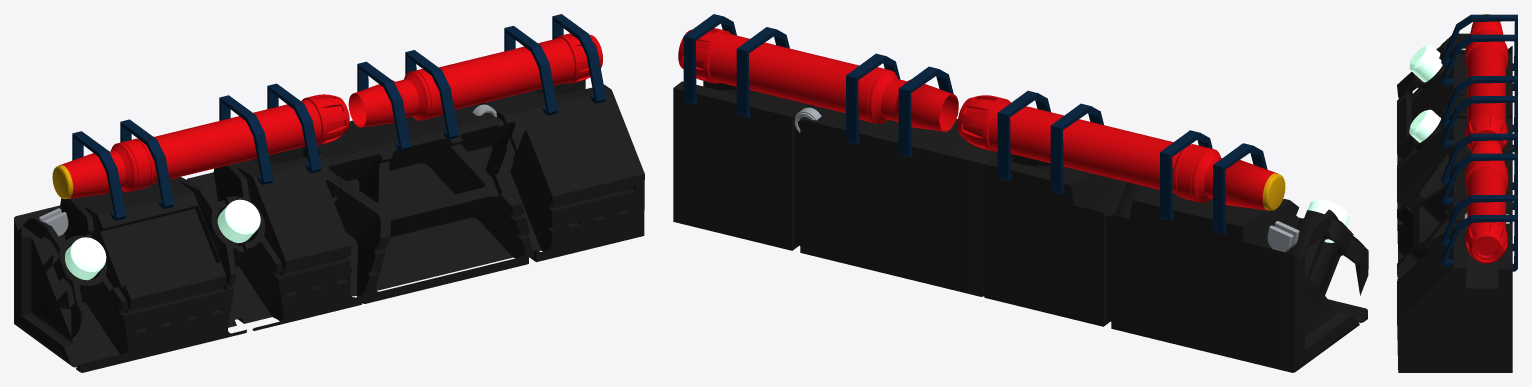
The model's file is machine_l.fbx.
The picture shows the model from 3 angles, left to right: view 1: azimuth 30°, elevation 25°; view 2: azimuth 150°, elevation 25°; view 3: azimuth 270°, elevation 25°; orthographic projection. The views are drawn at different scales.
Parts seen in each view (by area): view 1: machine_left; view 2: machine_left; view 3: machine_left.
Part boxes in pixels (<box>): machine_left: <box>14,14,644,372</box>; machine_left: <box>673,14,1368,372</box>; machine_left: <box>1397,14,1517,372</box>.
Size of the model in its own units: 1049 by 308 by 227.
